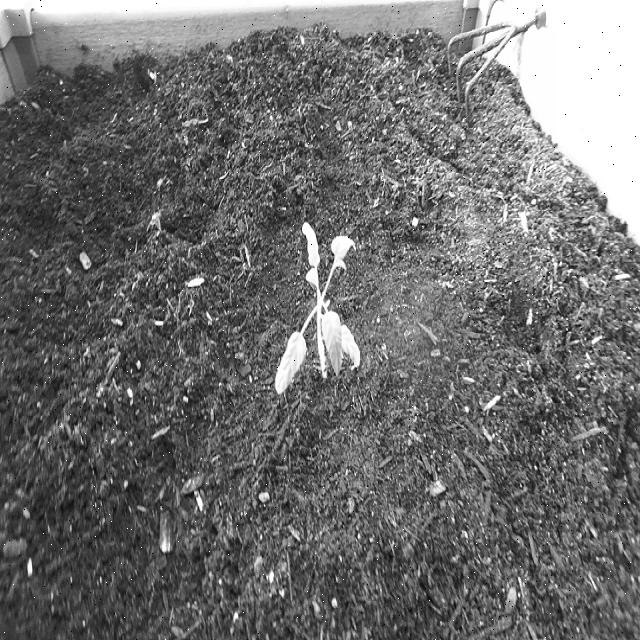Healthy: (266, 206, 375, 406)
